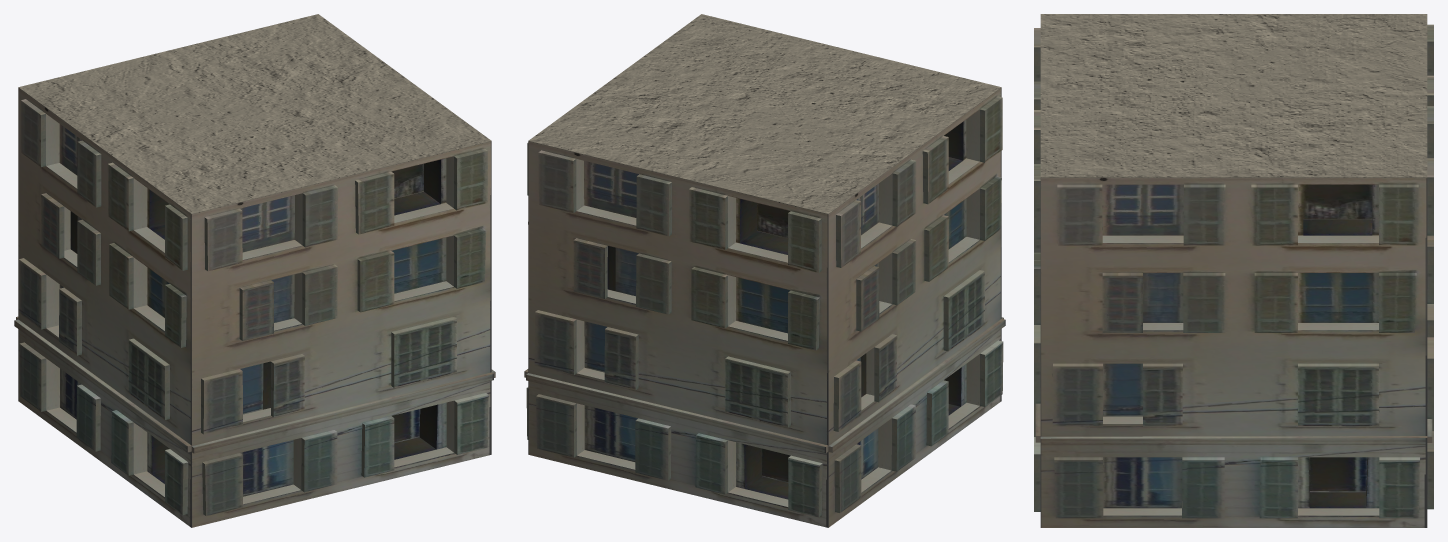
Rendered from building.glb.
3 renders of one model, left to right at view 1: azimuth 30°, elevation 25°; view 2: azimuth 150°, elevation 25°; view 3: azimuth 270°, elevation 25°, orthographic. The views are drawn at different scales.
Parts seen in each view (by area): view 1: Cube; view 2: Cube; view 3: Cube.
Boxes of the visible parts, left/top/right/bottom form: Cube: left=14, top=14, right=495, bottom=527; Cube: left=524, top=14, right=1005, bottom=527; Cube: left=1034, top=14, right=1433, bottom=527.
Size of the model in its own units: 1.03 by 1 by 1.03.
1 material, 1 textured.
